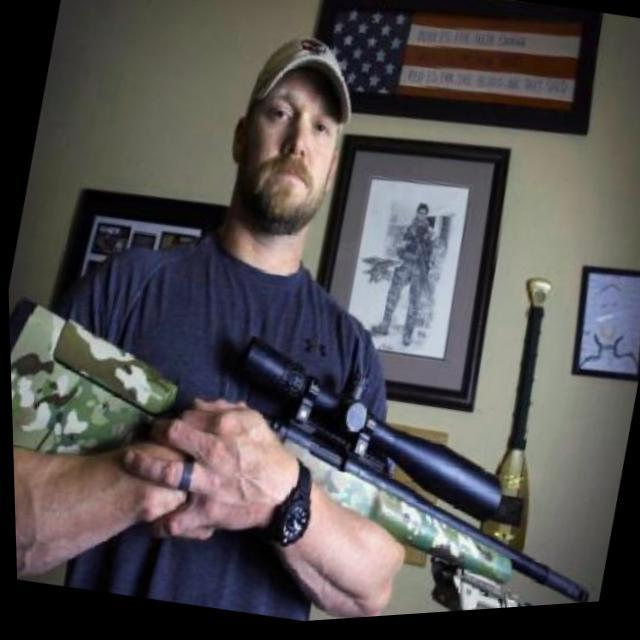weapon: (7, 256, 634, 640)
